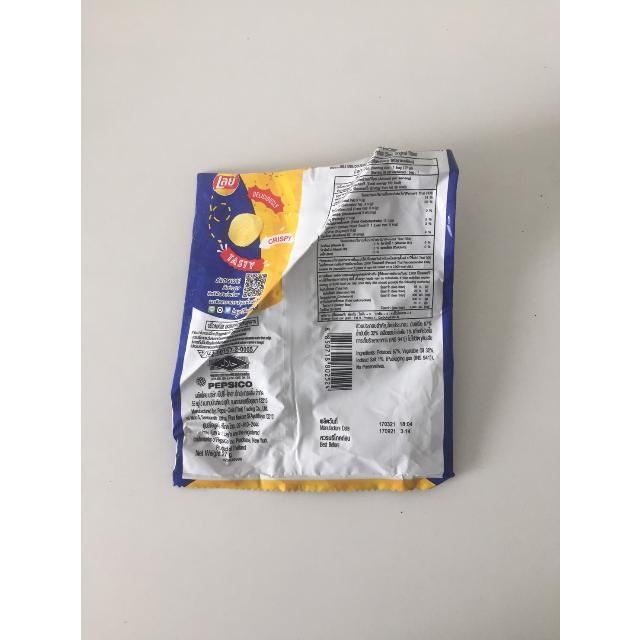Bolsa-de-plastico: (170, 152, 467, 508)
